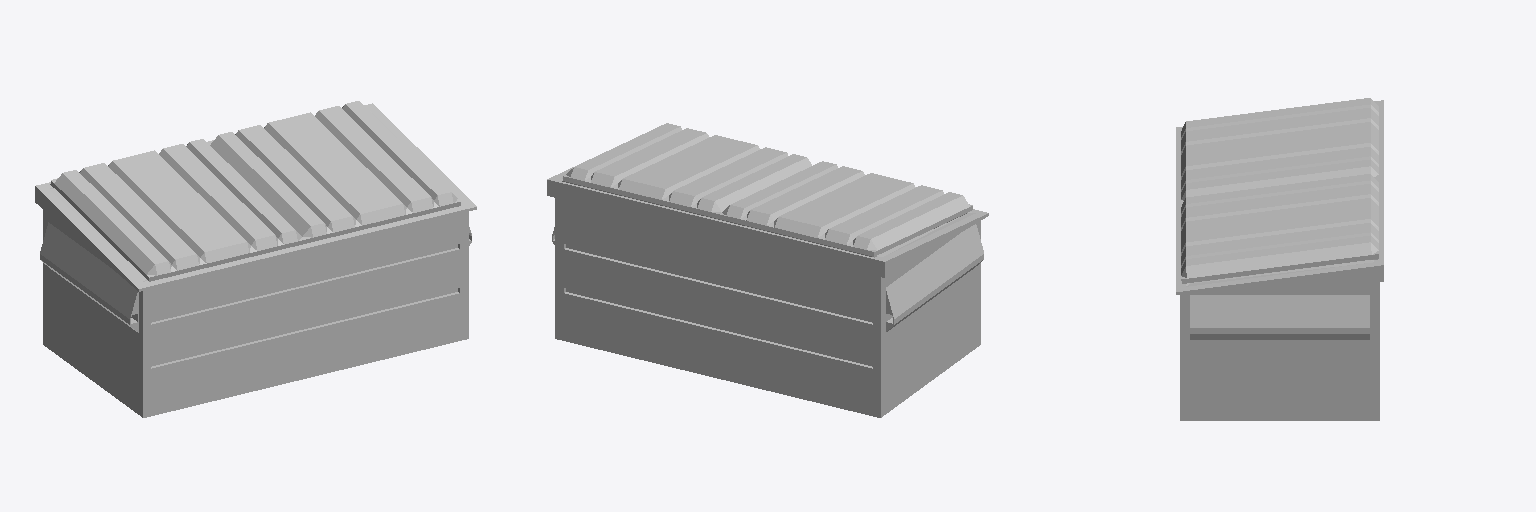
The model's file is dumpster.obj.
3 views of the same model, side by side, from view 1: azimuth 30°, elevation 25°; view 2: azimuth 150°, elevation 25°; view 3: azimuth 270°, elevation 25° (orthographic).
Visible parts, largest first — view 1: Cube.001; view 2: Cube.001; view 3: Cube.001.
Part boxes in pixels (bbox=[...]): Cube.001: bbox=[35, 101, 476, 417]; Cube.001: bbox=[547, 123, 988, 417]; Cube.001: bbox=[1176, 98, 1383, 420].
Bounding box in the file's own units: 7.91 × 3.8 × 4.16.